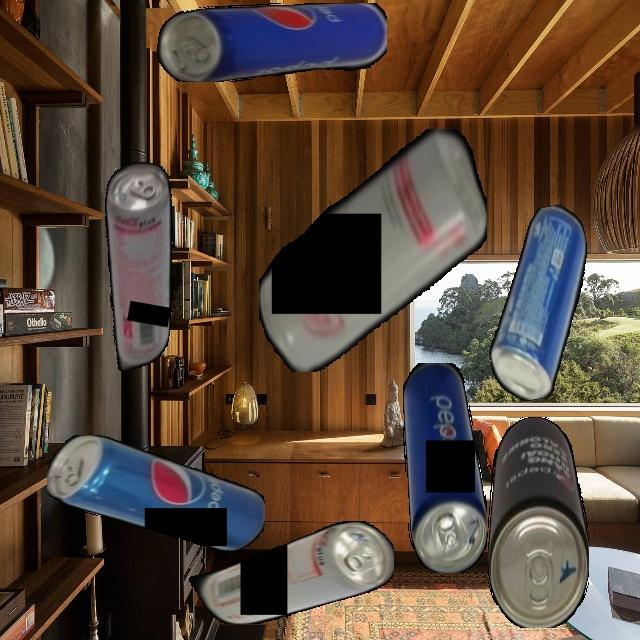debris: (258, 128, 487, 372), (467, 202, 611, 405), (76, 156, 198, 377), (46, 435, 265, 551), (486, 416, 589, 628), (188, 521, 394, 624), (157, 2, 387, 82), (402, 362, 487, 573)
